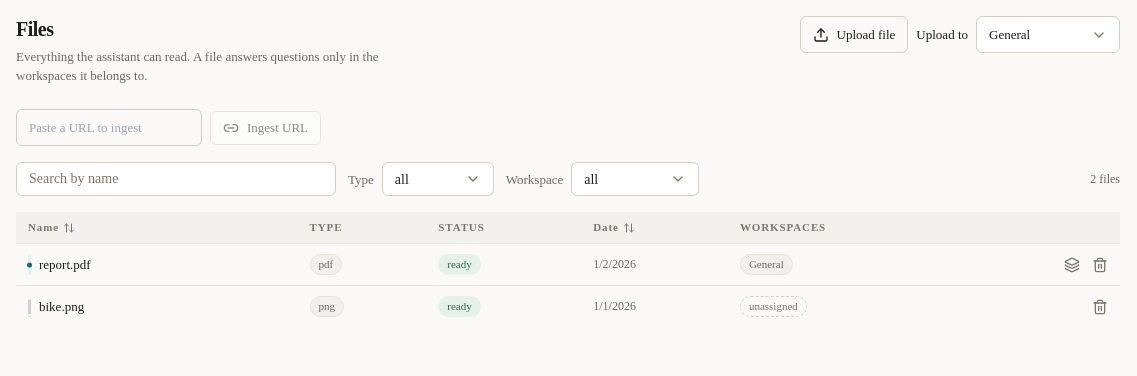
FilesManager › filters the list to unassigned files
Expected: the text "report.pdf" is shown, [39,255,91,274]
What coordinates should you click on to do the following:
click the button with aria-label "Filter by workspace"
I would click on:
 (635, 179)
Its box is [571,162,699,196].
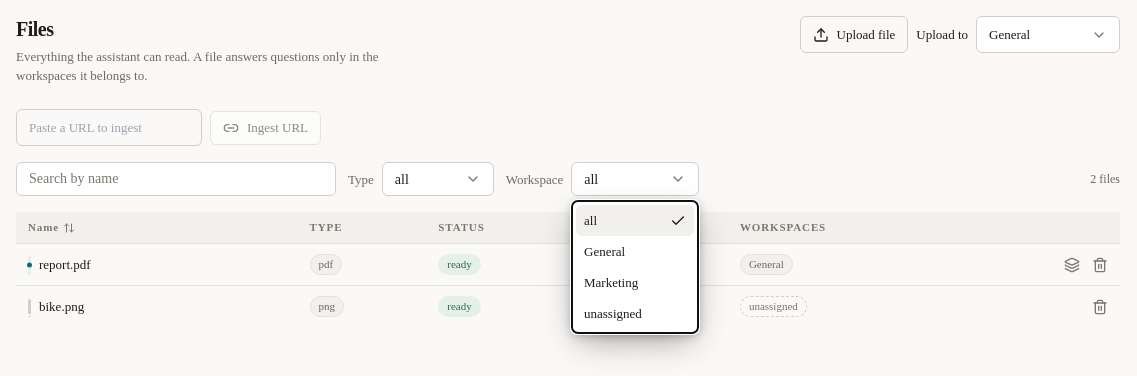
What coordinates should you click on to do the following:
click the option "unassigned"
I would click on:
 (613, 314)
Its box is [584,306,642,321].
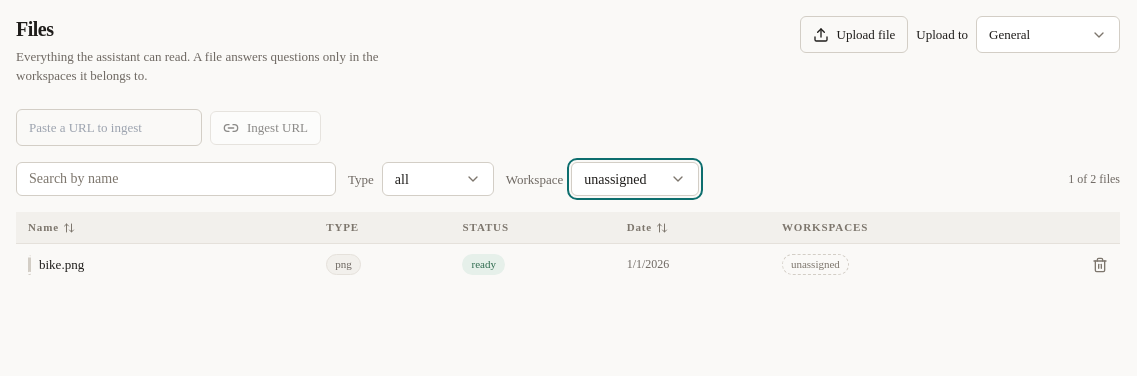
Expected: the button "bike.png" is shown, [39,255,84,274]
Expected: the text "report.pdf" is gone
